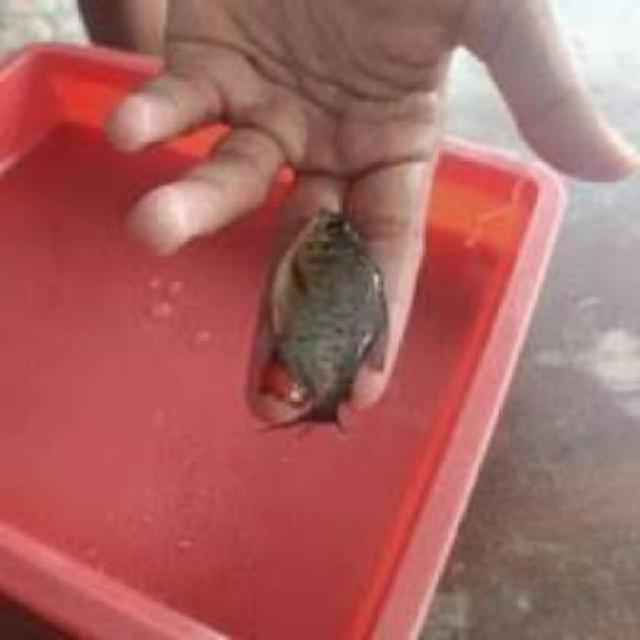ikan-pacu: (271, 204, 391, 430)
